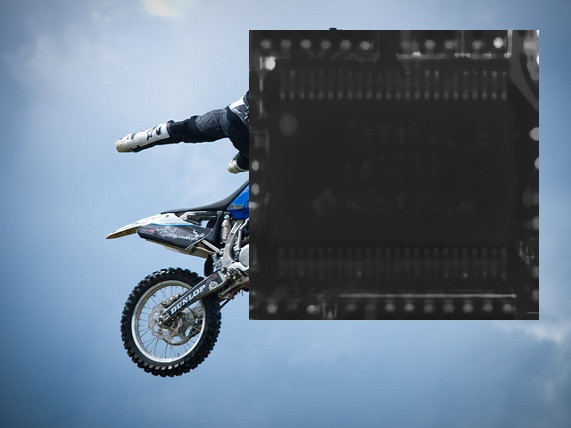PIN: (271, 236, 514, 285), (273, 60, 513, 104)
motorcycle: (103, 91, 438, 378)
